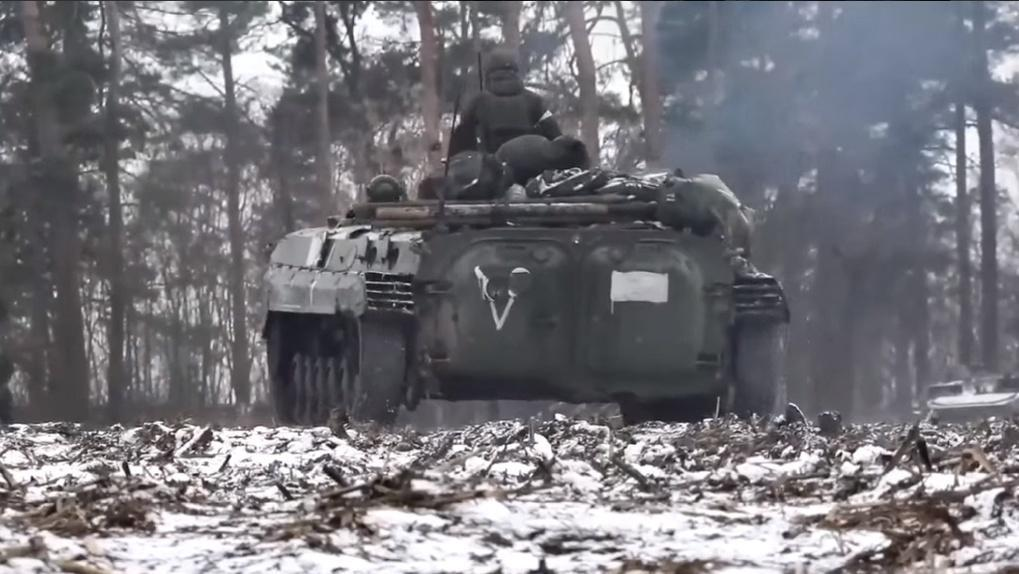tank: (254, 171, 797, 440)
